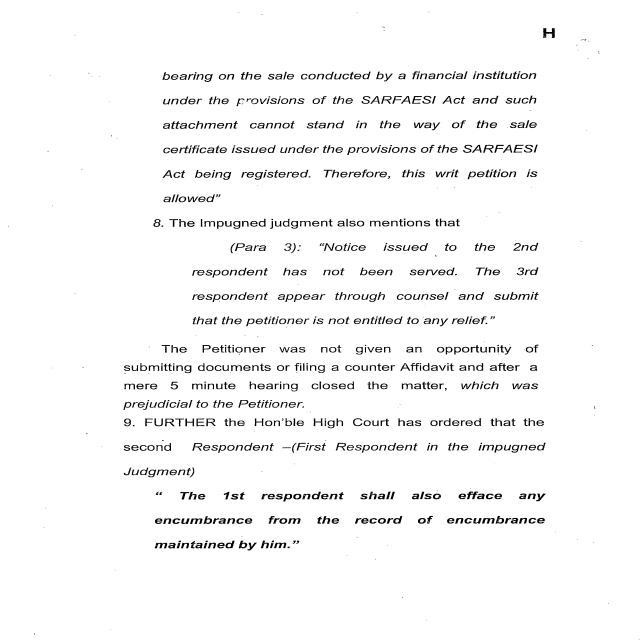page-number: (463, 0, 639, 68)
